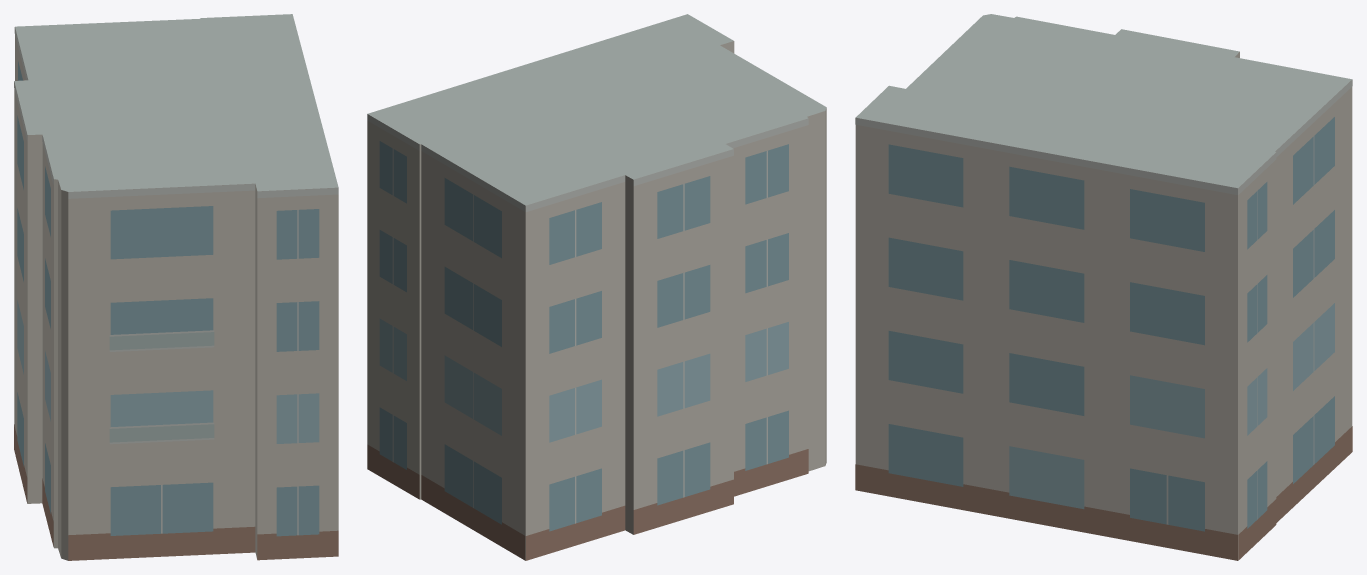
Rendered from survey-upis-32670346.glb.
3 renders of one model, left to right at view 1: azimuth 30°, elevation 25°; view 2: azimuth 150°, elevation 25°; view 3: azimuth 270°, elevation 25°, orthographic. The views are drawn at different scales.
Visible parts, largest first — view 1: survey-upis-32670346.tmp; view 2: survey-upis-32670346.tmp; view 3: survey-upis-32670346.tmp.
Boxes of the visible parts, bbox=[...] form: survey-upis-32670346.tmp: bbox=[14, 14, 338, 560]; survey-upis-32670346.tmp: bbox=[367, 14, 826, 560]; survey-upis-32670346.tmp: bbox=[855, 14, 1352, 560].
Bounding box in the file's own units: 13.05 × 13 × 15.72.
